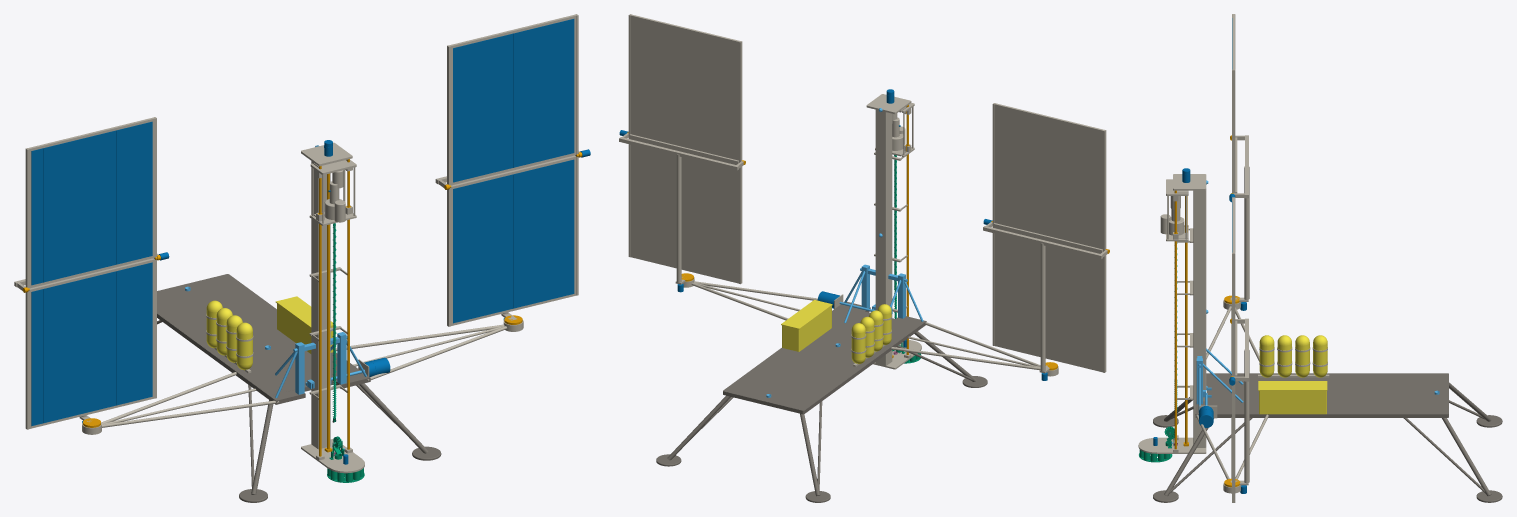
The model's file is full_drill_rig.glb.
The picture shows the model from 3 angles, left to right: view 1: azimuth 30°, elevation 25°; view 2: azimuth 150°, elevation 25°; view 3: azimuth 270°, elevation 25°; orthographic projection. The views are drawn at different scales.
Parts seen in each view (by area): view 1: Solar_Wing_Port_Elev_Node__Port_Panel_Upper_GaInP_Cells, Solar_Wing_Starboard_Elev_Node__Starboard_Panel_Upper_GaInP_, Solar_Wing_Port_Elev_Node__Port_Panel_Lower_GaInP_Cells, Solar_Wing_Starboard_Elev_Node__Starboard_Panel_Lower_GaInP_, Frame_Node__Deck_Face_Sheet, Solar_Node, Frame_Node__Mast_Spine_80x80x3, Solar_Wing_Port_Elev_Node, Solar_Wing_Starboard_Elev_Node, Solar_Wing_Starboard_Elev_Node__Starboard_Panel_Upper_Substr, Solar_Wing_Port_Elev_Node__Port_Panel_Upper_Substrate, Solar_Wing_Port_Elev_Node__Port_Panel_Lower_Substrate (+9 smaller); view 2: Solar_Wing_Port_Elev_Node__Port_Panel_Upper_Substrate, Solar_Wing_Starboard_Elev_Node__Starboard_Panel_Upper_Substr, Solar_Wing_Starboard_Elev_Node__Starboard_Panel_Lower_Substr, Solar_Wing_Port_Elev_Node__Port_Panel_Lower_Substrate, Frame_Node__Deck_Face_Sheet, Frame_Node__Mast_Spine_80x80x3, Solar_Node, Solar_Wing_Starboard_Elev_Node, Solar_Wing_Port_Elev_Node, Frame_Node__Lander_Deck_Panel, Solar_Node__Avionics_WarmBox, Solar_Wing_Port_Az_Node__Port_Mast_Post (+7 smaller); view 3: Frame_Node__Deck_Face_Sheet, Solar_Node, Frame_Node__Mast_Spine_80x80x3, Solar_Node__Avionics_WarmBox, Solar_Wing_Starboard_Elev_Node, Frame_Node__Lander_Deck_Panel, Frame_Node__Mast_Foot_Plate, Frame_Node__Guide_Rail_R, Solar_Node__Avionics_Radiator, Solar_Wing_Starboard_Az_Node__Starboard_Mast_Post, Solar_Wing_Port_Az_Node__Port_Mast_Post, Frame_Node__Leadscrew_Tr16x4 (+5 smaller).
Boxes of the visible parts, left/top/right/bottom form: Solar_Wing_Port_Elev_Node__Port_Panel_Upper_GaInP_Cells: left=31, top=121, right=152, bottom=285; Solar_Wing_Starboard_Elev_Node__Starboard_Panel_Upper_GaInP_: left=453, top=19, right=574, bottom=182; Solar_Wing_Port_Elev_Node__Port_Panel_Lower_GaInP_Cells: left=31, top=262, right=152, bottom=426; Solar_Wing_Starboard_Elev_Node__Starboard_Panel_Lower_GaInP_: left=453, top=159, right=574, bottom=323; Frame_Node__Deck_Face_Sheet: left=157, top=274, right=362, bottom=395; Solar_Node: left=101, top=300, right=507, bottom=427; Frame_Node__Mast_Spine_80x80x3: left=311, top=145, right=330, bottom=449; Solar_Wing_Port_Elev_Node: left=25, top=117, right=157, bottom=429; Solar_Wing_Starboard_Elev_Node: left=447, top=14, right=578, bottom=326; Solar_Wing_Starboard_Elev_Node__Starboard_Panel_Upper_Substr: left=449, top=14, right=576, bottom=185; Solar_Wing_Port_Elev_Node__Port_Panel_Upper_Substrate: left=28, top=117, right=154, bottom=288; Solar_Wing_Port_Elev_Node__Port_Panel_Lower_Substrate: left=29, top=258, right=154, bottom=428; Solar_Wing_Port_Elev_Node__Port_Panel_Upper_Substrate: left=994, top=103, right=1103, bottom=249; Solar_Wing_Starboard_Elev_Node__Starboard_Panel_Upper_Substr: left=630, top=14, right=739, bottom=160; Solar_Wing_Starboard_Elev_Node__Starboard_Panel_Lower_Substr: left=630, top=145, right=738, bottom=283; Solar_Wing_Port_Elev_Node__Port_Panel_Lower_Substrate: left=994, top=233, right=1102, bottom=372; Frame_Node__Deck_Face_Sheet: left=723, top=305, right=919, bottom=410; Frame_Node__Mast_Spine_80x80x3: left=875, top=103, right=892, bottom=366; Solar_Node: left=691, top=281, right=1040, bottom=370; Solar_Wing_Starboard_Elev_Node: left=628, top=14, right=742, bottom=284; Solar_Wing_Port_Elev_Node: left=992, top=103, right=1106, bottom=372; Frame_Node__Lander_Deck_Panel: left=723, top=302, right=926, bottom=414; Solar_Node__Avionics_WarmBox: left=782, top=306, right=831, bottom=351; Solar_Wing_Port_Az_Node__Port_Mast_Post: left=1040, top=243, right=1045, bottom=371; Frame_Node__Deck_Face_Sheet: left=1207, top=373, right=1448, bottom=413; Solar_Node: left=1195, top=306, right=1327, bottom=479; Frame_Node__Mast_Spine_80x80x3: left=1193, top=190, right=1206, bottom=447; Solar_Node__Avionics_WarmBox: left=1259, top=391, right=1326, bottom=414; Solar_Wing_Starboard_Elev_Node: left=1231, top=197, right=1235, bottom=502; Frame_Node__Lander_Deck_Panel: left=1195, top=373, right=1448, bottom=417; Frame_Node__Mast_Foot_Plate: left=1138, top=437, right=1206, bottom=453; Frame_Node__Guide_Rail_R: left=1174, top=190, right=1176, bottom=449; Solar_Node__Avionics_Radiator: left=1258, top=381, right=1327, bottom=390; Solar_Wing_Starboard_Az_Node__Starboard_Mast_Post: left=1244, top=349, right=1249, bottom=483; Solar_Wing_Port_Az_Node__Port_Mast_Post: left=1244, top=166, right=1249, bottom=299; Frame_Node__Leadscrew_Tr16x4: left=1185, top=196, right=1187, bottom=443.
Bounding box in the file's own units: 3.59 × 2.22 × 2.25.
